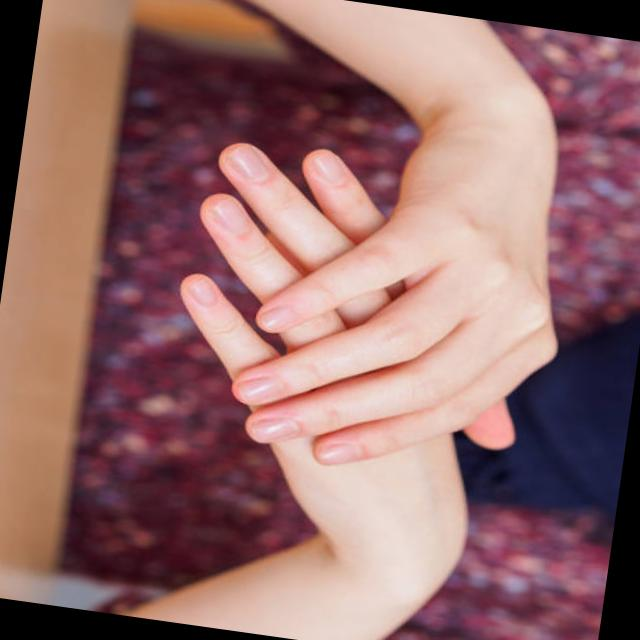Nail: (205, 196, 252, 237), (223, 144, 269, 185), (308, 151, 347, 188), (234, 376, 282, 406), (246, 417, 300, 442), (255, 302, 298, 333), (316, 442, 360, 467), (185, 277, 218, 308)
